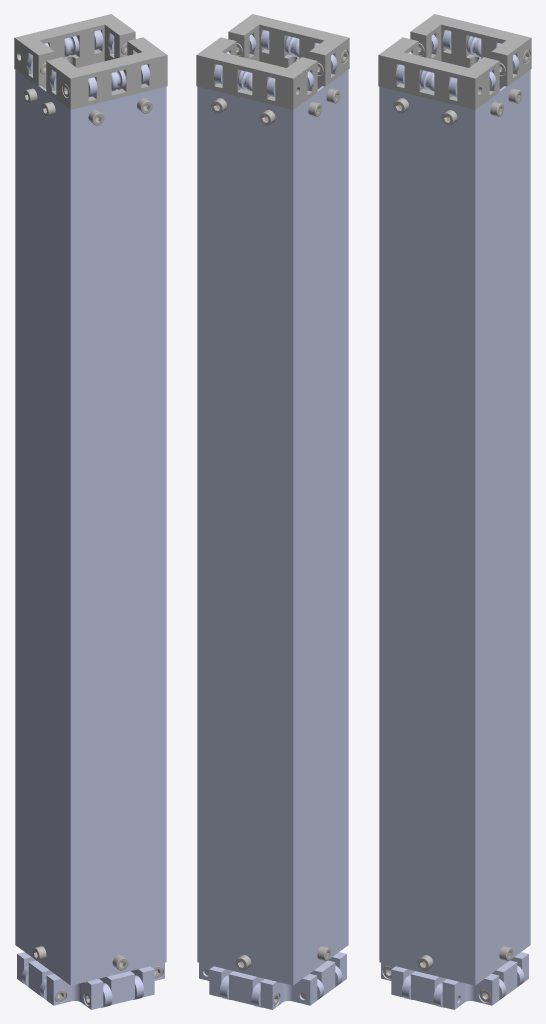
3 views of the same model, side by side, from view 1: azimuth 30°, elevation 25°; view 2: azimuth 150°, elevation 25°; view 3: azimuth 330°, elevation 25° (orthographic).
Parts seen in each view (by area): view 1: Solid1 (×4); view 2: Solid1 (×4); view 3: Solid1 (×4).
Part boxes in pixels (bbox=[...]): Solid1 (×4): bbox=[14, 14, 167, 1009]; Solid1 (×4): bbox=[196, 14, 349, 1009]; Solid1 (×4): bbox=[378, 14, 531, 1009].
Size of the model in its own units: 0.0976 by 0.7465 by 0.0976.
